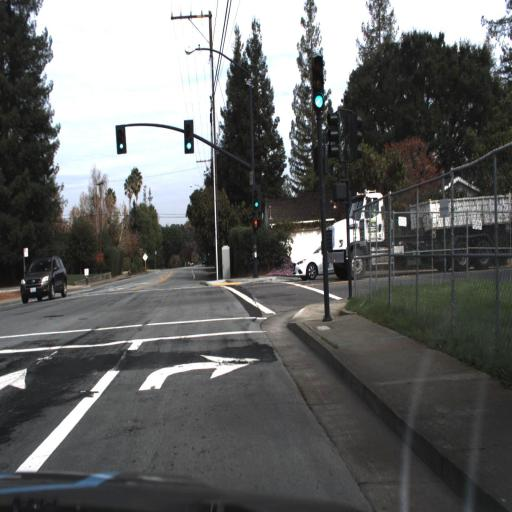car: (19, 254, 68, 305), (289, 243, 324, 281)
trafficLight-Green: (310, 50, 326, 113), (182, 119, 193, 150), (252, 187, 262, 215), (118, 122, 127, 150)
truck: (324, 194, 511, 281)
